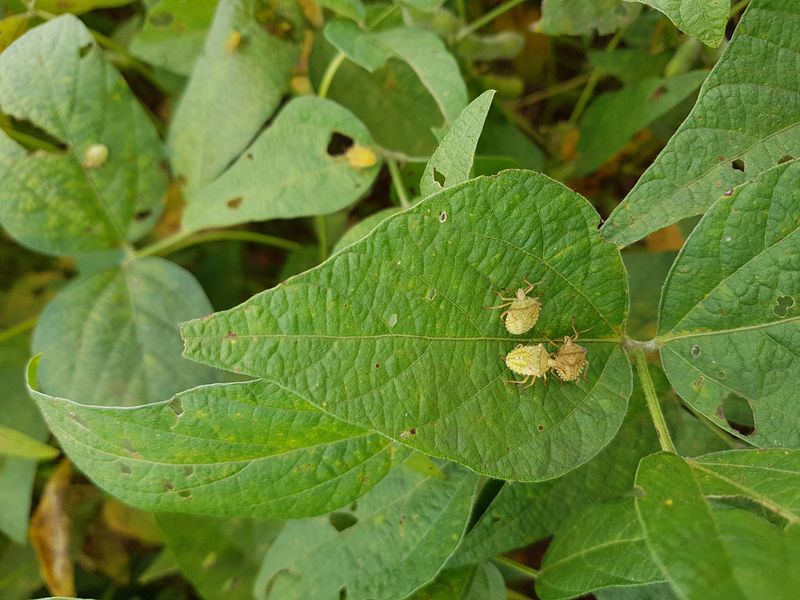Euschistus_heros_ninfa: (488, 274, 547, 341), (551, 321, 608, 389), (492, 339, 555, 396)
